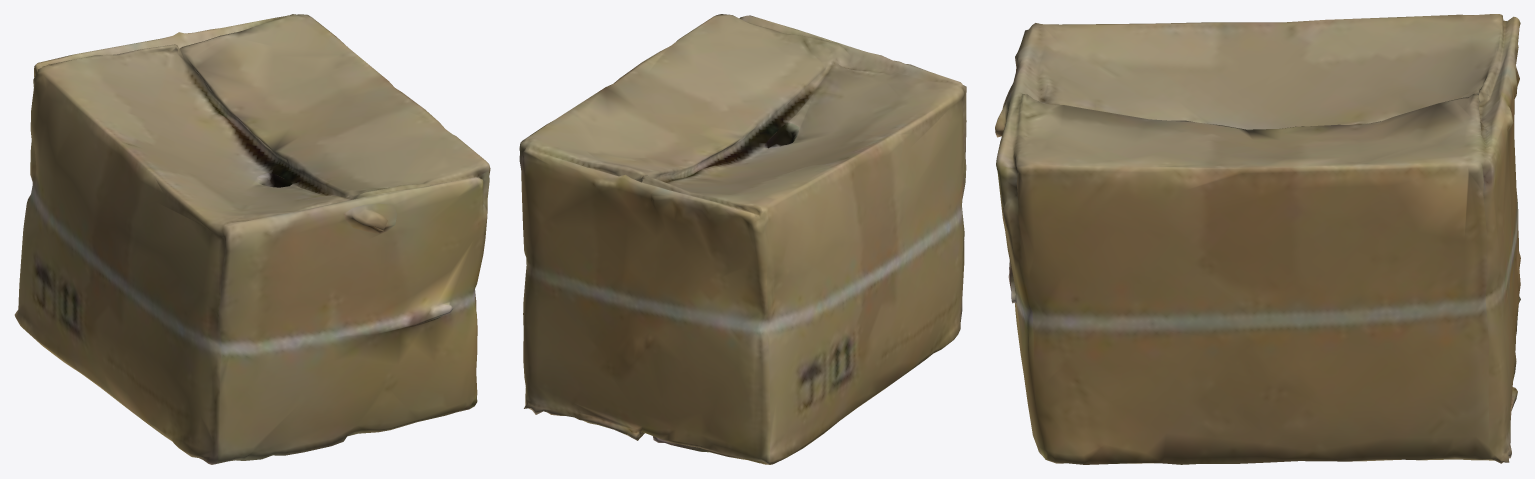
File: cardboard_box_01.glb
The picture shows the model from 3 angles, left to right: view 1: azimuth 30°, elevation 25°; view 2: azimuth 150°, elevation 25°; view 3: azimuth 270°, elevation 25°; orthographic projection. The views are drawn at different scales.
Parts seen in each view (by area): view 1: cardboard_box_01; view 2: cardboard_box_01; view 3: cardboard_box_01.
Part boxes in pixels (x1,y1,x2,y2): cardboard_box_01: [14, 14, 490, 464]; cardboard_box_01: [519, 14, 966, 464]; cardboard_box_01: [995, 14, 1520, 464].
Size of the model in its own units: 0.3868 by 0.3418 by 0.5159.
Materials: 1 (1 with a texture image).
